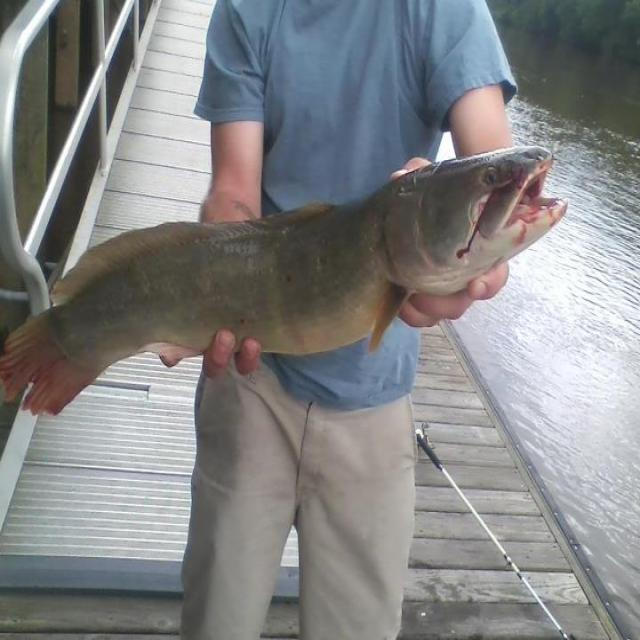Bowfin: (44, 147, 568, 371)
